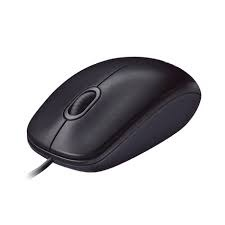mouse: (20, 50, 204, 177)
